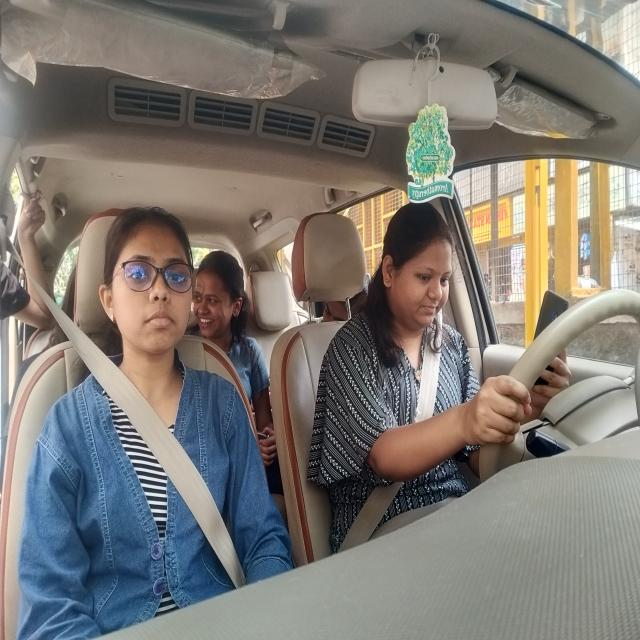mobile: (522, 292, 574, 367)
person: (103, 216, 198, 364), (378, 202, 459, 333), (196, 255, 248, 341)
